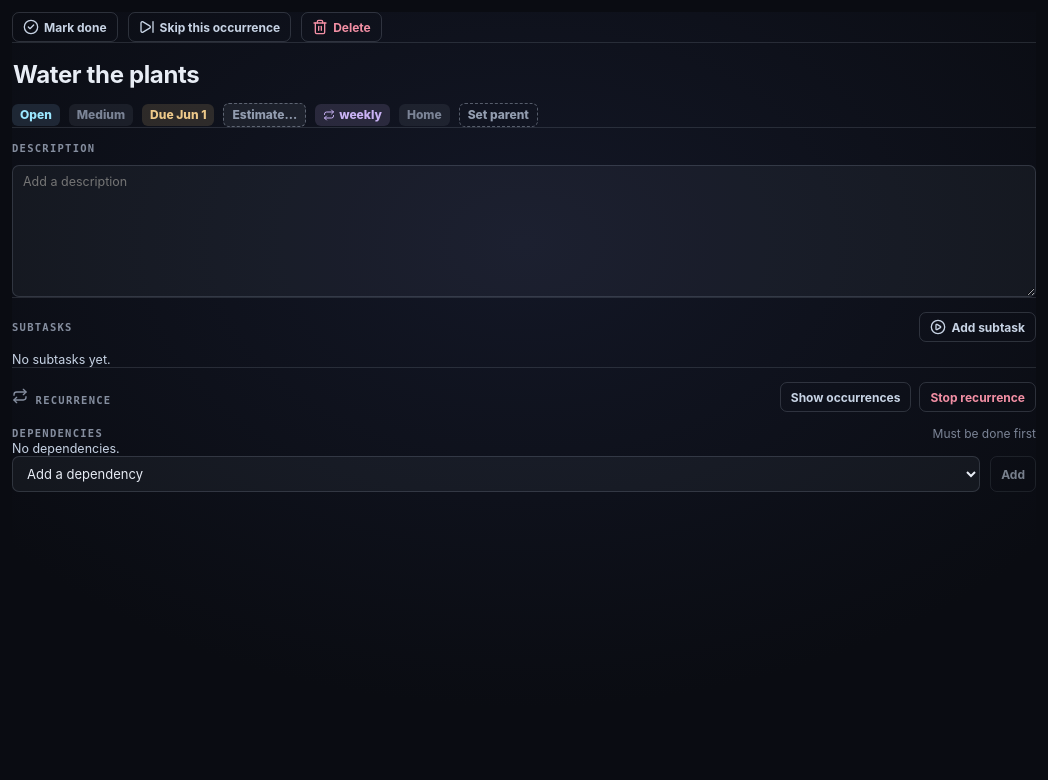
Recurrence UI › lazily loads the series timeline and marks the current/skipped rows
What coordinates should you click on to do the following:
click the button "Show occurrences"
I would click on:
 (846, 397)
Its box is [780,382,911,412].
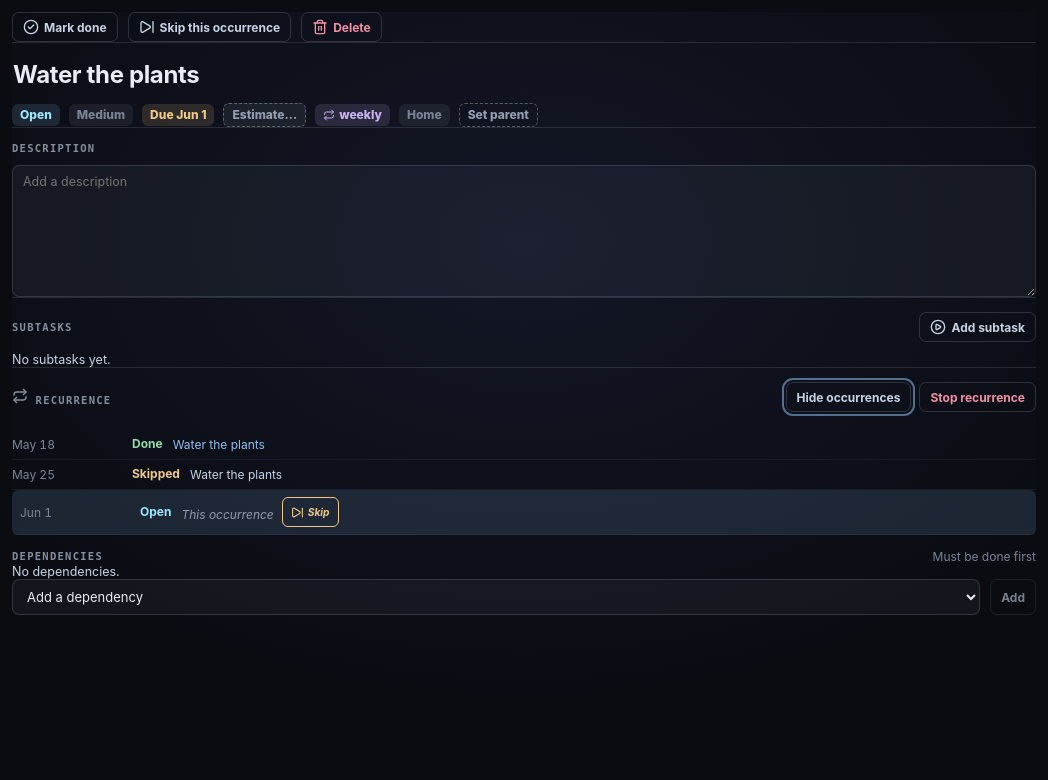
expect the text "Skipped" is shown: met, box [132,467,180,482]
expect the text "This occurrence" is shown: met, box [181,507,274,522]
